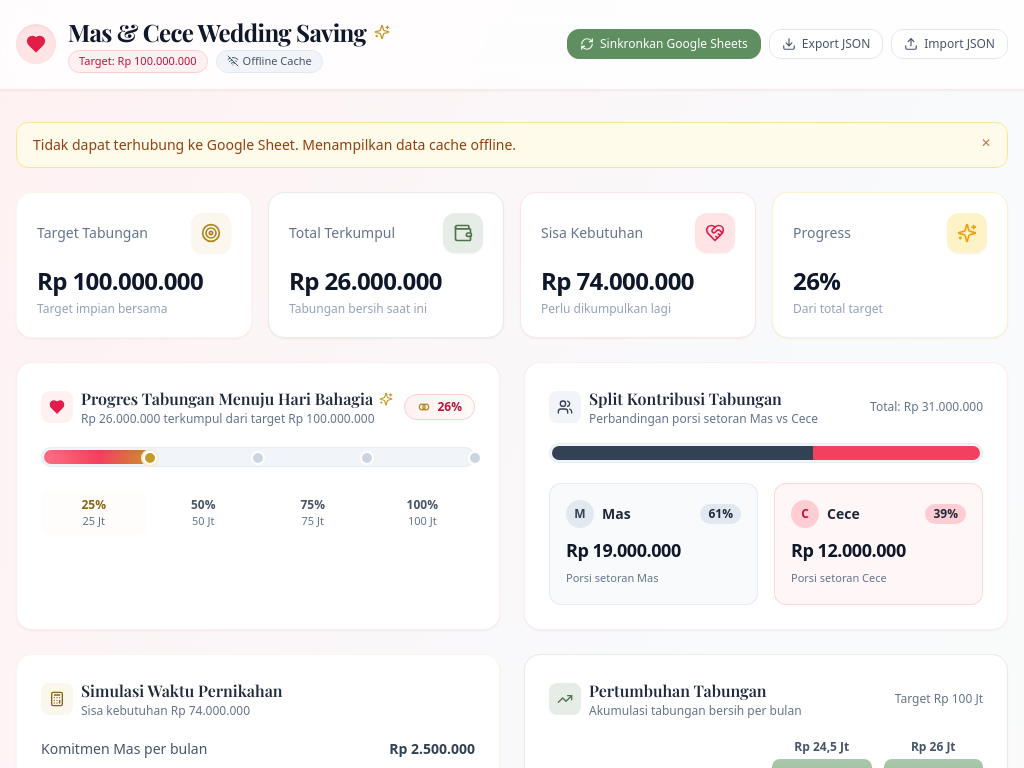
App Component › re-syncs when sync button clicked
The width and height of the screenshot is (1024, 768).
Expected: the element with test id "sync-status" reads "Offline Cache", x1=243 y1=53 x2=312 y2=68
Click the button "Sinkronkan Google Sheets".
click(664, 44)  # box x1=567 y1=29 x2=761 y2=59
(page scrolled)
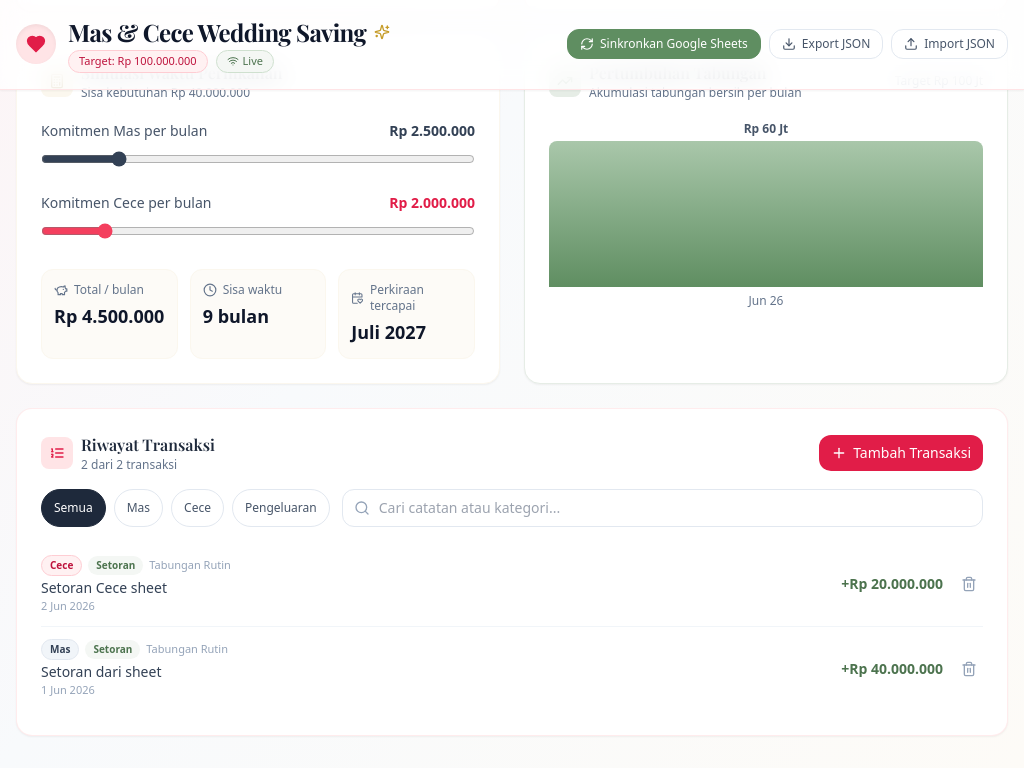
Expected: the element with test id "sync-status" reads "Live", x1=243 y1=53 x2=263 y2=68
Expected: the text "Setoran dari sheet" is shown, x1=41 y1=662 x2=162 y2=681
